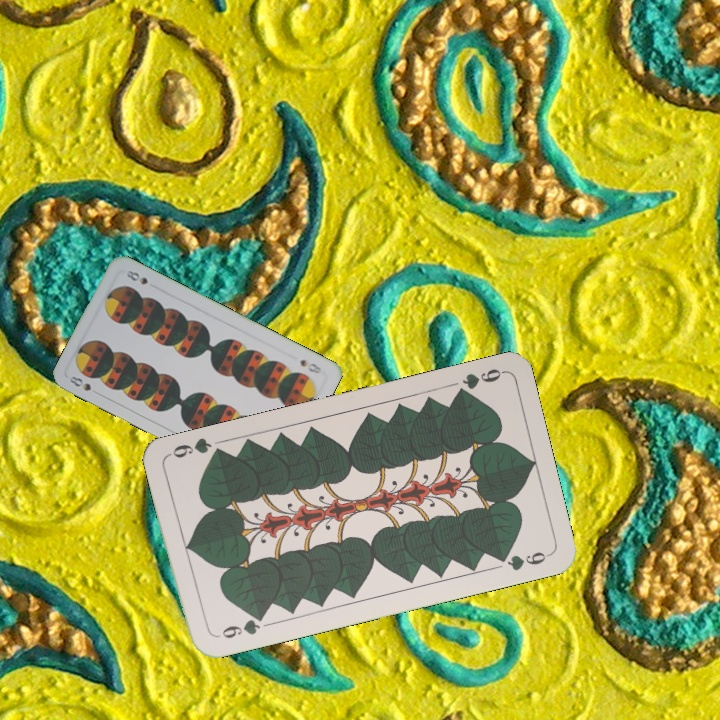G9: (451, 364, 506, 400), (211, 610, 267, 641)
S8: (65, 372, 103, 398), (296, 355, 325, 376)
